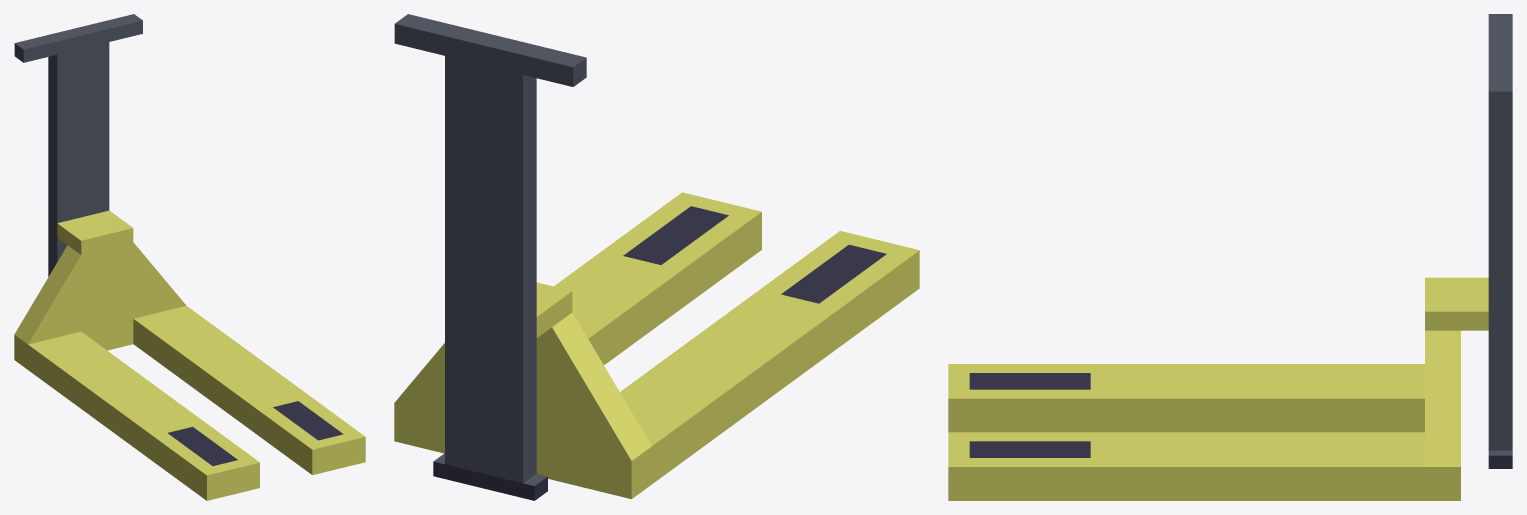
Rendered from simple forklift.fbx.
The picture shows the model from 3 angles, left to right: view 1: azimuth 30°, elevation 25°; view 2: azimuth 150°, elevation 25°; view 3: azimuth 270°, elevation 25°; orthographic projection. The views are drawn at different scales.
Visible parts, largest first — view 1: Cube.030; view 2: Cube.030; view 3: Cube.030.
Boxes of the visible parts, x1,y1,x2,y2 form: Cube.030: (14,14,365,500); Cube.030: (394,14,919,500); Cube.030: (948,14,1512,500).
Bounding box in the file's own units: 298 × 535 × 689.
